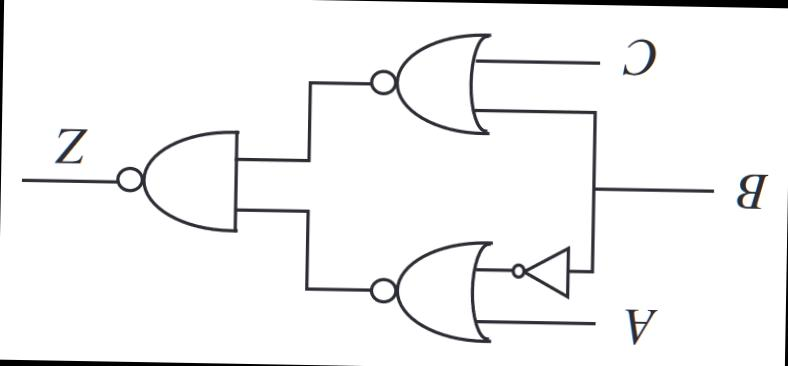nand: (102, 116, 254, 244)
nor: (337, 17, 517, 146), (346, 232, 506, 356)
not: (499, 229, 586, 306)
